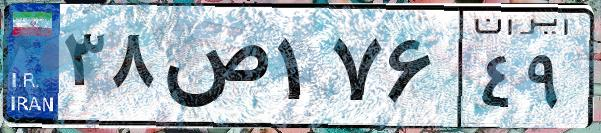1: (270, 28, 330, 110)
3: (57, 26, 110, 100)
4: (475, 38, 525, 113)
6: (385, 28, 445, 110)
7: (330, 28, 385, 110)
8: (110, 28, 158, 98)
9: (525, 38, 570, 115)
ص: (158, 20, 270, 120)
